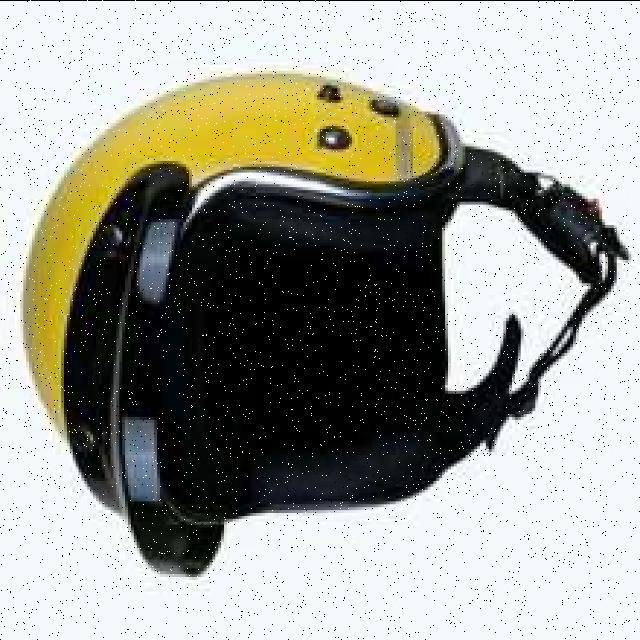Helmet: (25, 76, 626, 575)
